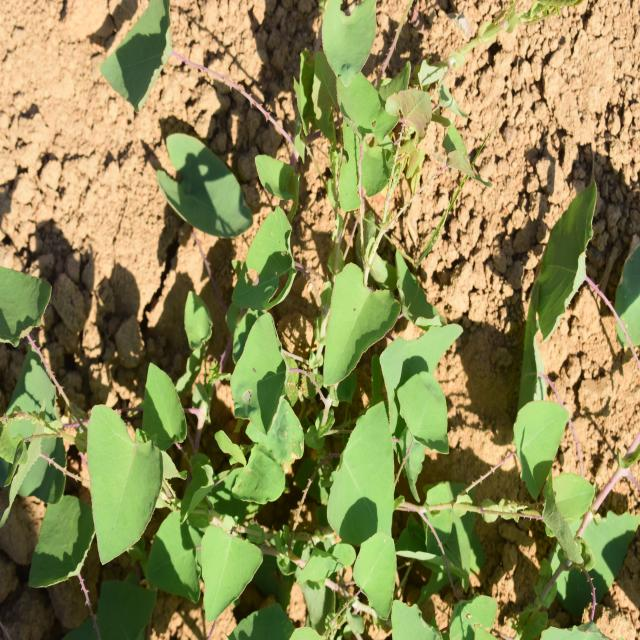Asiatic_Smartweed: (0, 267, 186, 592), (294, 227, 453, 598), (174, 298, 296, 624), (478, 371, 626, 602), (524, 185, 612, 342)
